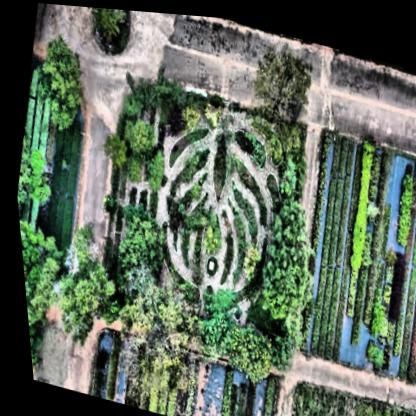tree-top: (244, 191, 318, 316), (47, 242, 115, 341), (29, 28, 91, 131), (15, 218, 67, 331), (248, 36, 320, 109), (106, 193, 165, 272), (216, 315, 271, 391), (10, 140, 56, 217), (78, 5, 139, 50), (115, 64, 161, 123), (187, 302, 230, 359), (92, 119, 134, 173), (259, 312, 296, 370), (134, 140, 172, 193), (116, 112, 154, 163), (22, 313, 43, 381)
